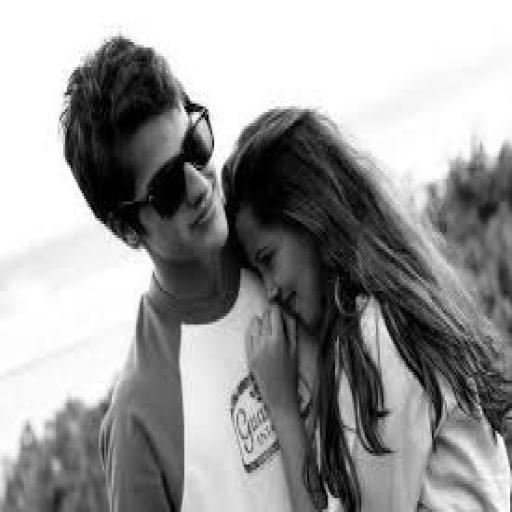hugging: (58, 31, 318, 509), (220, 101, 510, 509)
